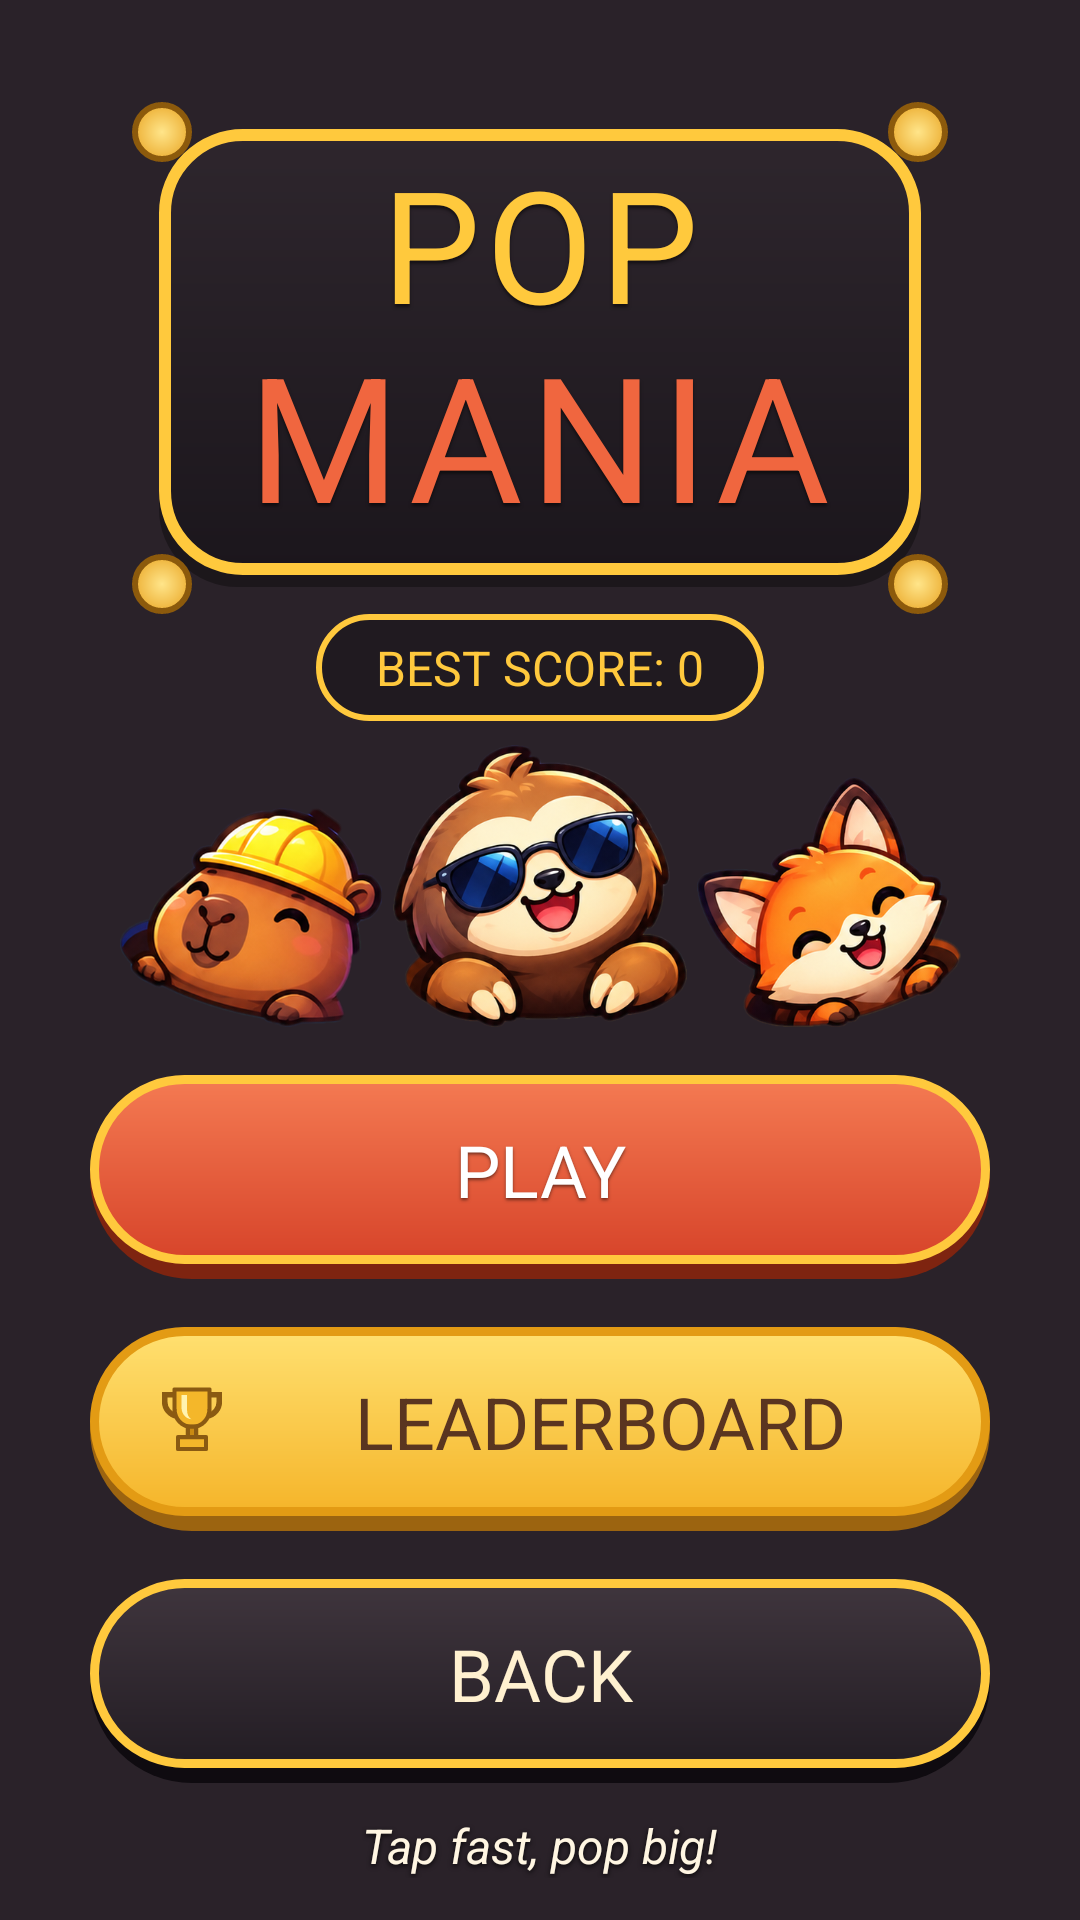

Point at icon controls on the screen. Image size 1080 x 1920, points as [x,y].
char capybara: [250,917]
char fox: [829,903]
char sloth: [549,886]
stud gold: [162,132], [918,132], [162,584], [918,584]
